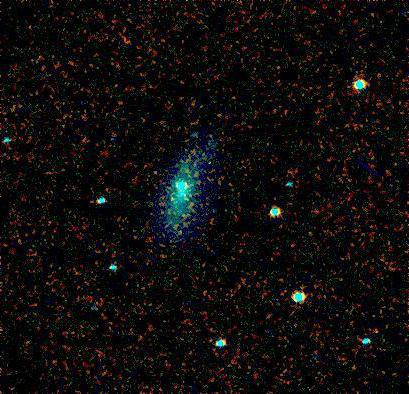star: (138, 155, 168, 185)
